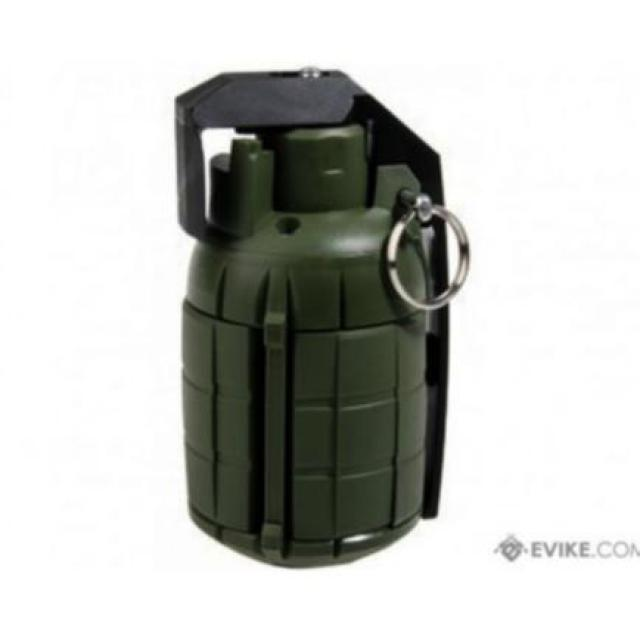grenade: (175, 69, 468, 564)
